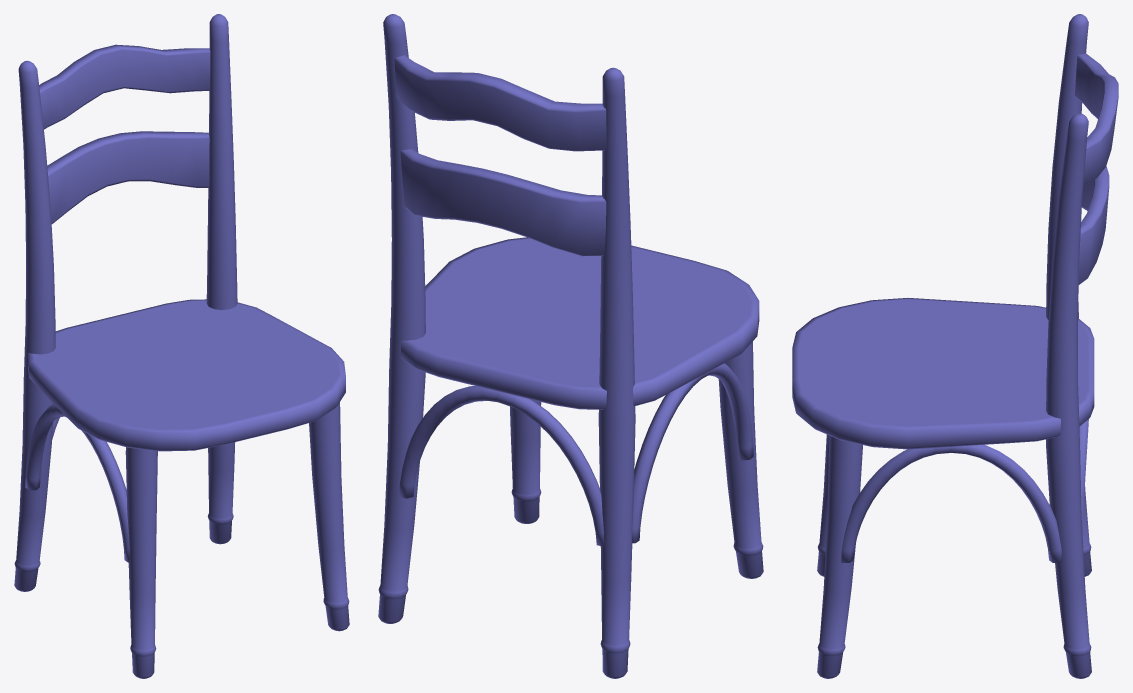
3 renders of one model, left to right at view 1: azimuth 30°, elevation 25°; view 2: azimuth 150°, elevation 25°; view 3: azimuth 270°, elevation 25°, orthographic. The views are drawn at different scales.
Parts seen in each view (by area): view 1: chair_kitchen; view 2: chair_kitchen; view 3: chair_kitchen.
Part boxes in pixels (x1,y1,x2,y2): chair_kitchen: (14, 14, 349, 678); chair_kitchen: (378, 14, 763, 678); chair_kitchen: (792, 14, 1118, 678).
Size of the model in its own units: 0.6068 by 1.2 by 0.6314.
